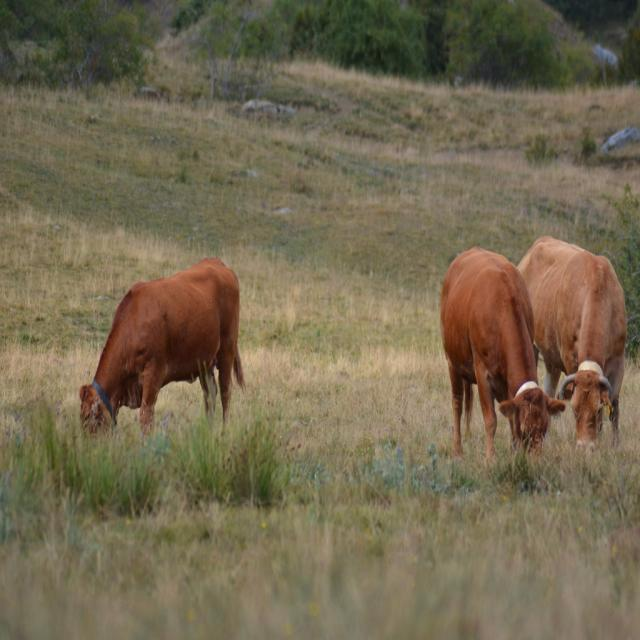cow: (80, 258, 244, 433), (441, 248, 565, 458), (518, 236, 626, 446)
